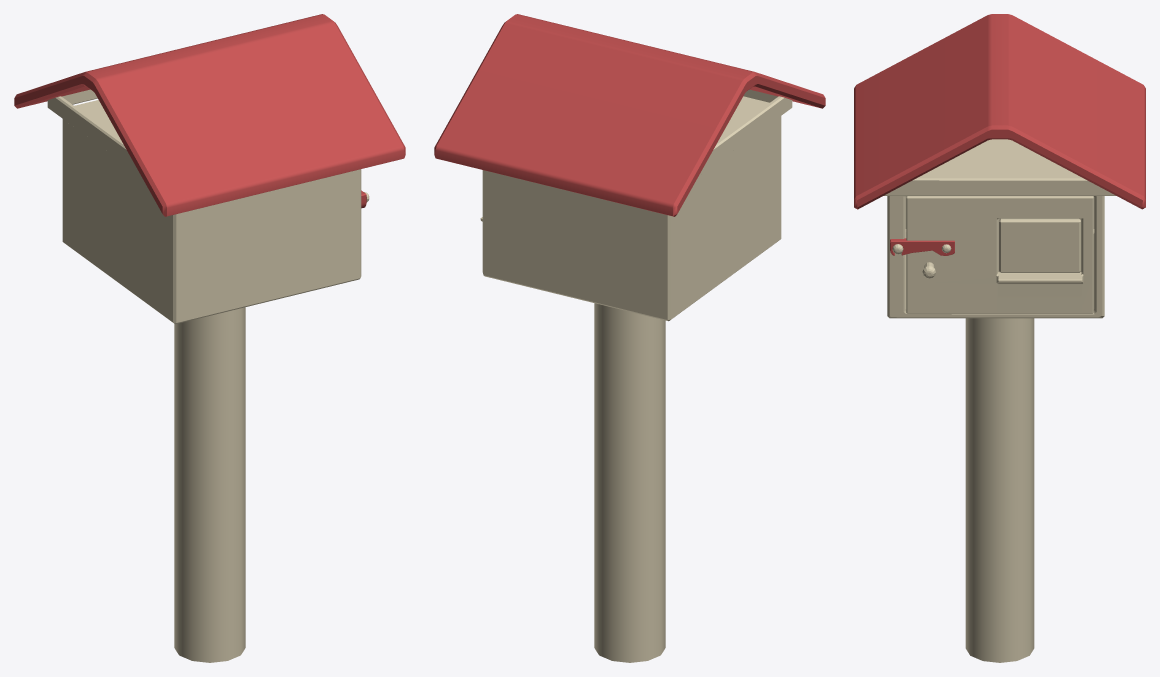
Rendered from BAL.fbx.
3 renders of one model, left to right at view 1: azimuth 30°, elevation 25°; view 2: azimuth 150°, elevation 25°; view 3: azimuth 270°, elevation 25°, orthographic. The views are drawn at different scales.
Parts seen in each view (by area): view 1: BAL; view 2: BAL; view 3: BAL.
Boxes of the visible parts, left/top/right/bottom form: BAL: left=14, top=14, right=405, bottom=662; BAL: left=434, top=14, right=825, bottom=662; BAL: left=854, top=14, right=1145, bottom=662.
Bounding box in the file's own units: 91.61 × 217 × 99.01.
